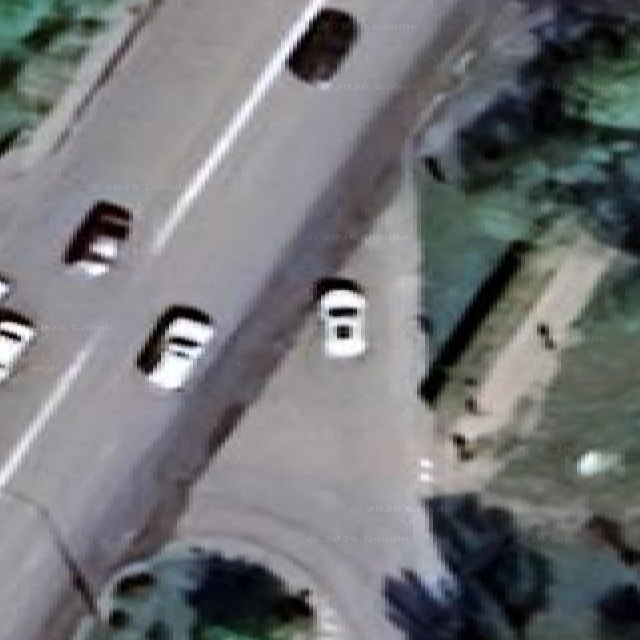car: (138, 307, 214, 390), (64, 202, 130, 276), (320, 288, 366, 357), (0, 311, 35, 383), (0, 275, 11, 300)
